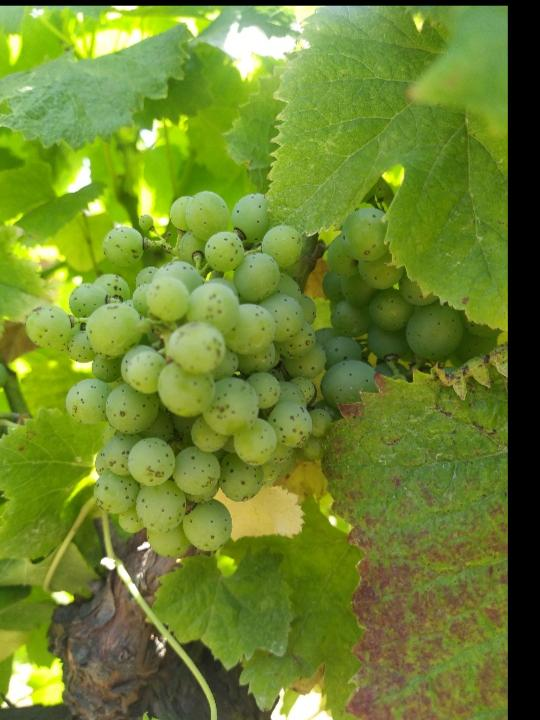grape: (22, 189, 334, 560)
